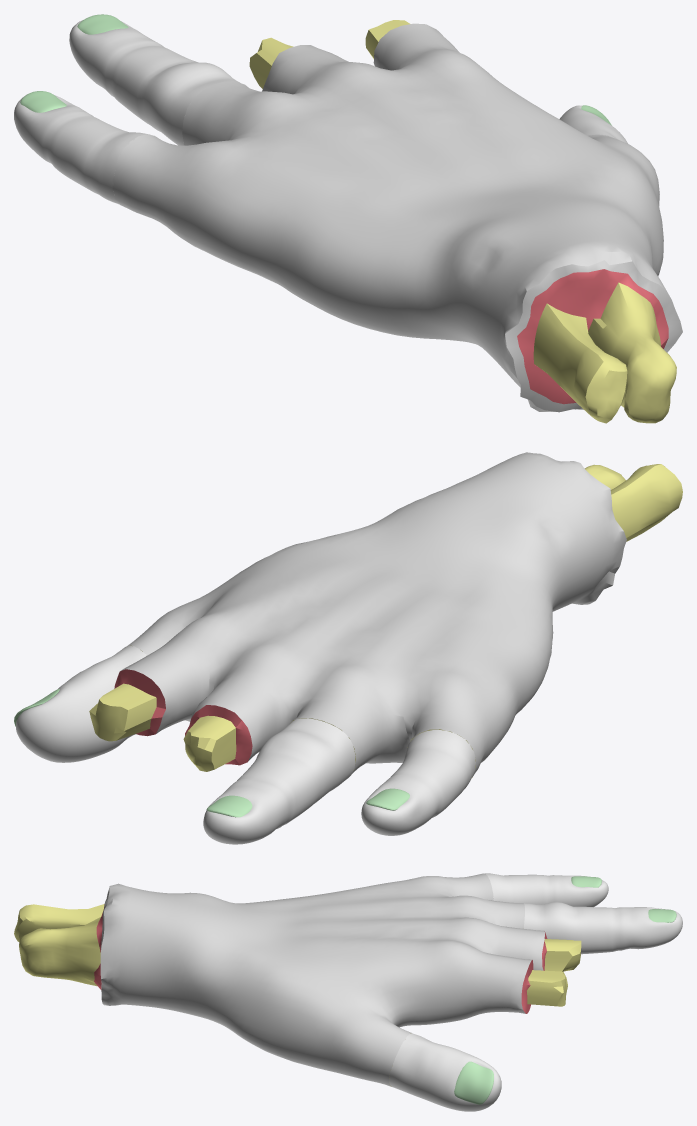
The model's file is Severed Hand.fbx.
3 renders of one model, top to bottom at view 1: azimuth 30°, elevation 25°; view 2: azimuth 150°, elevation 25°; view 3: azimuth 270°, elevation 25°, orthographic. The views are drawn at different scales.
Visible parts, largest first — view 1: Retopo_Arm/Hand.L.002, Ring Finger.L, Pinky.L, Thumb.L; view 2: Retopo_Arm/Hand.L.002, Ring Finger.L, Pinky.L, Thumb.L; view 3: Retopo_Arm/Hand.L.002, Ring Finger.L, Thumb.L, Pinky.L.
Part boxes in pixels (x1,y1,x2,y2): Retopo_Arm/Hand.L.002: [112, 20, 682, 423]; Ring Finger.L: [69, 14, 239, 145]; Pinky.L: [14, 91, 150, 204]; Thumb.L: [559, 105, 627, 143]; Retopo_Arm/Hand.L.002: [89, 452, 682, 777]; Ring Finger.L: [203, 718, 355, 844]; Pinky.L: [361, 730, 475, 835]; Thumb.L: [14, 645, 146, 762]; Retopo_Arm/Hand.L.002: [14, 873, 581, 1086]; Ring Finger.L: [524, 902, 682, 954]; Thumb.L: [389, 1033, 501, 1111]; Pinky.L: [485, 873, 608, 906].
Size of the model in its own units: 418 by 157 by 717.
